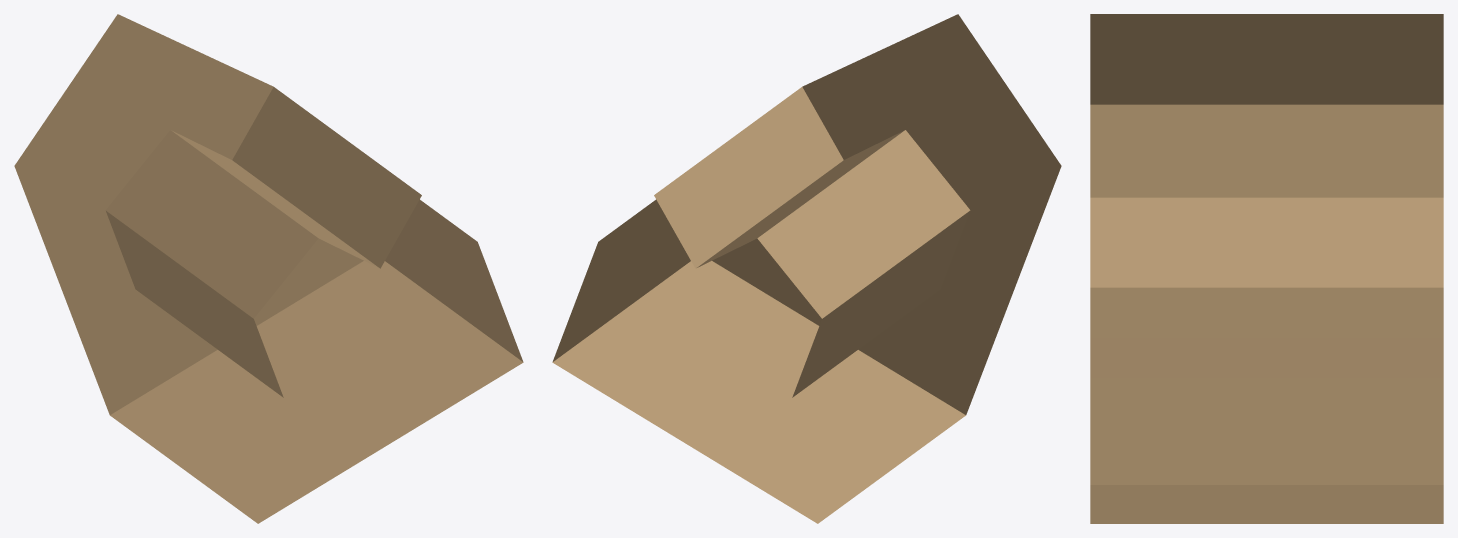
3 renders of one model, left to right at view 1: azimuth 30°, elevation 25°; view 2: azimuth 150°, elevation 25°; view 3: azimuth 270°, elevation 25°, orthographic. The views are drawn at different scales.
Visible parts, largest first — view 1: 0_0_1_1_3_2_3_0; view 2: 0_0_1_1_3_2_3_0; view 3: 0_0_1_1_3_2_3_0.
Part boxes in pixels (x1,y1,x2,y2): 0_0_1_1_3_2_3_0: [14, 14, 523, 523]; 0_0_1_1_3_2_3_0: [552, 14, 1061, 523]; 0_0_1_1_3_2_3_0: [1090, 14, 1443, 523].
Bounding box in the file's own units: 29.5 × 31.2 × 21.
